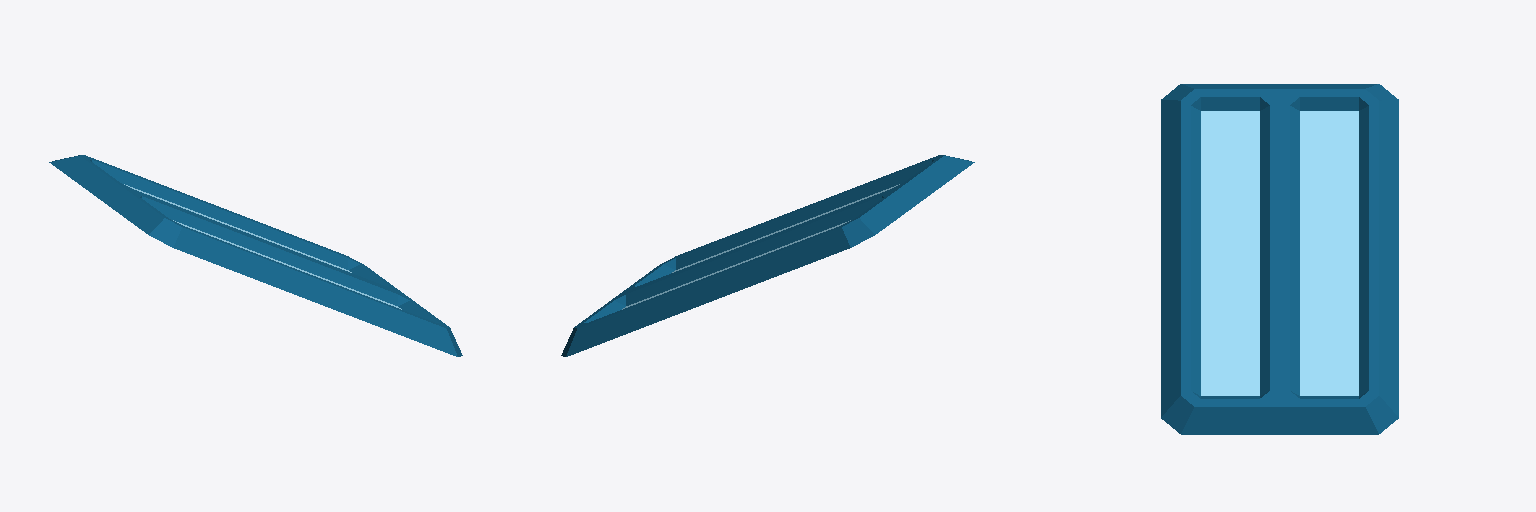
The model's file is Spacestation_Structure_Fuselage_Straight_Windows.obj.
3 renders of one model, left to right at view 1: azimuth 30°, elevation 25°; view 2: azimuth 150°, elevation 25°; view 3: azimuth 270°, elevation 25°, orthographic.
Parts seen in each view (by area): view 1: object2, object1; view 2: object2, object1; view 3: object2, object1.
Boxes of the visible parts, x1,y1,x2,y2 form: object2: [49, 155, 462, 356]; object1: [124, 184, 401, 309]; object2: [561, 155, 974, 356]; object1: [622, 184, 899, 309]; object2: [1161, 84, 1398, 434]; object1: [1201, 111, 1358, 395].
Bounding box in the file's own units: 0.9143 × 0.5657 × 0.6.